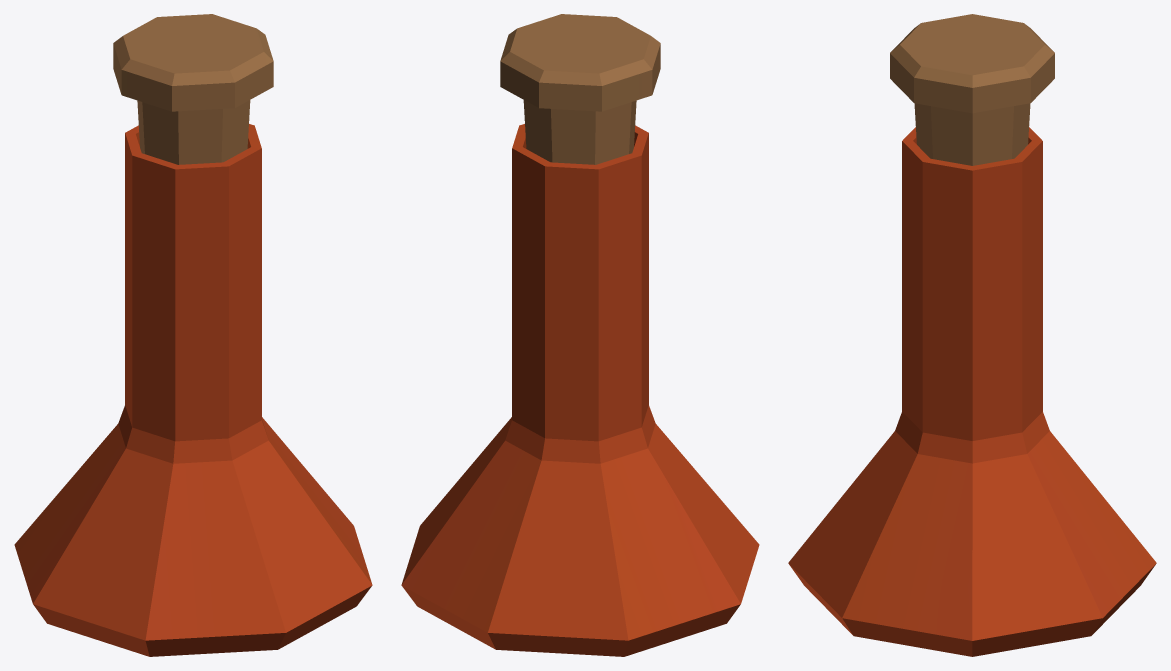
File: Fiole.fbx
The picture shows the model from 3 angles, left to right: view 1: azimuth 30°, elevation 25°; view 2: azimuth 150°, elevation 25°; view 3: azimuth 270°, elevation 25°; orthographic projection.
Parts seen in each view (by area): view 1: Fiole; view 2: Fiole; view 3: Fiole.
Boxes of the visible parts, <box> form: Fiole: <box>14,14,372,656</box>; Fiole: <box>401,14,759,656</box>; Fiole: <box>788,14,1156,656</box>.
Bounding box in the file's own units: 24.25 × 39.27 × 24.25.
